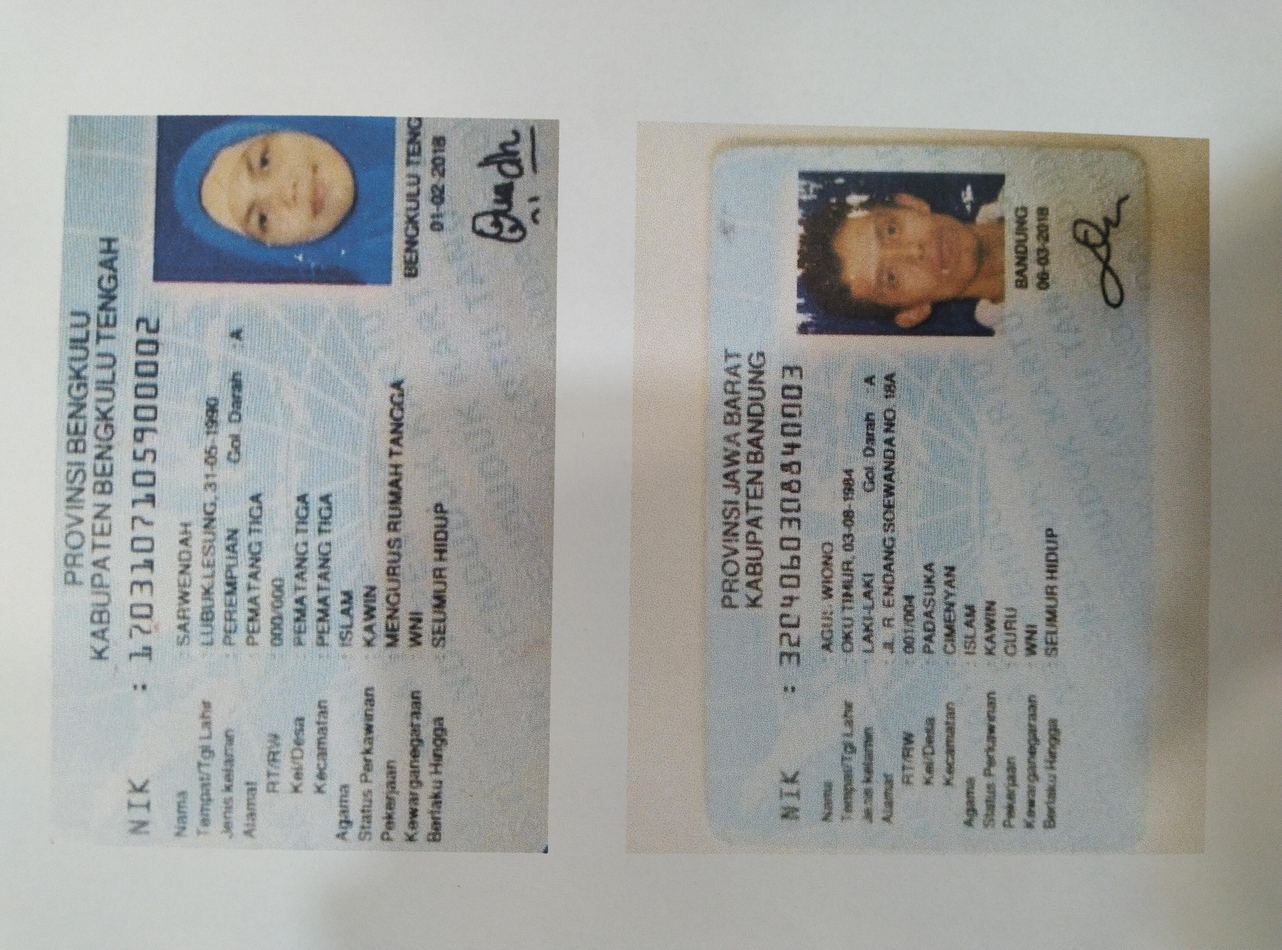ID-card: (128, 41, 1116, 407), (143, 529, 1071, 845)
